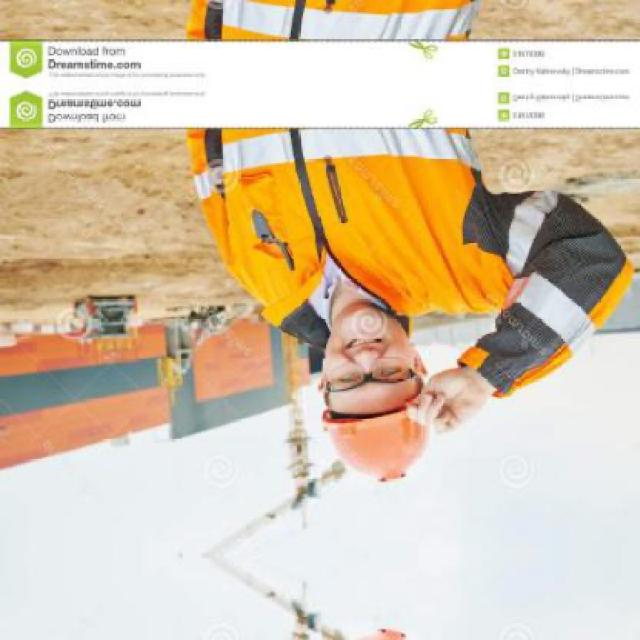con casco: (289, 280, 461, 501)
